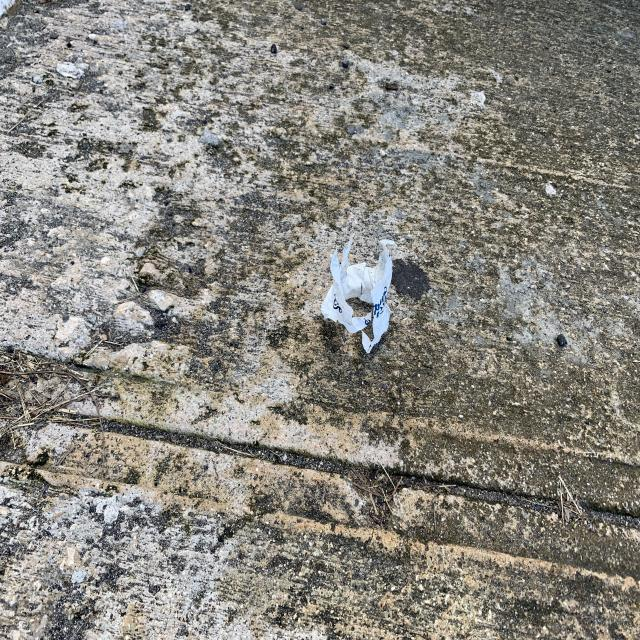litter: (321, 231, 393, 355)
